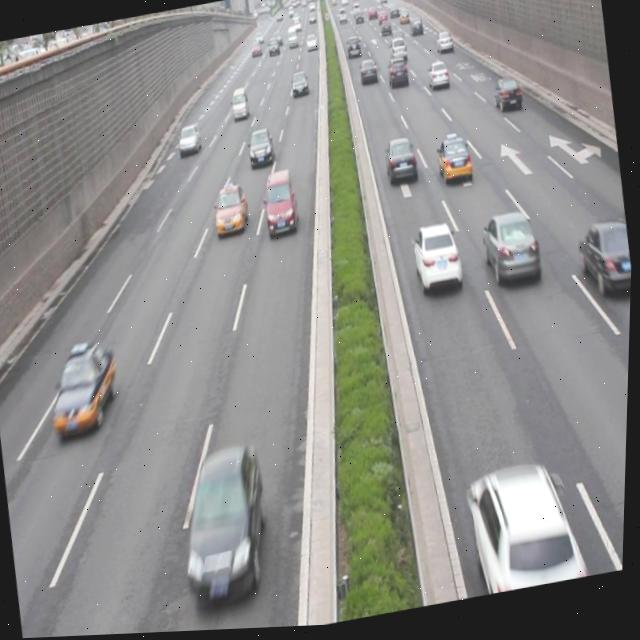car: (174, 442, 281, 607), (464, 462, 589, 602), (45, 339, 124, 439), (480, 211, 545, 293), (575, 222, 634, 305), (410, 221, 466, 299), (433, 135, 474, 191), (212, 183, 252, 239), (384, 140, 422, 191), (491, 78, 525, 121), (245, 127, 276, 172), (177, 122, 204, 157), (425, 63, 451, 96)
truck: (262, 170, 303, 238)
